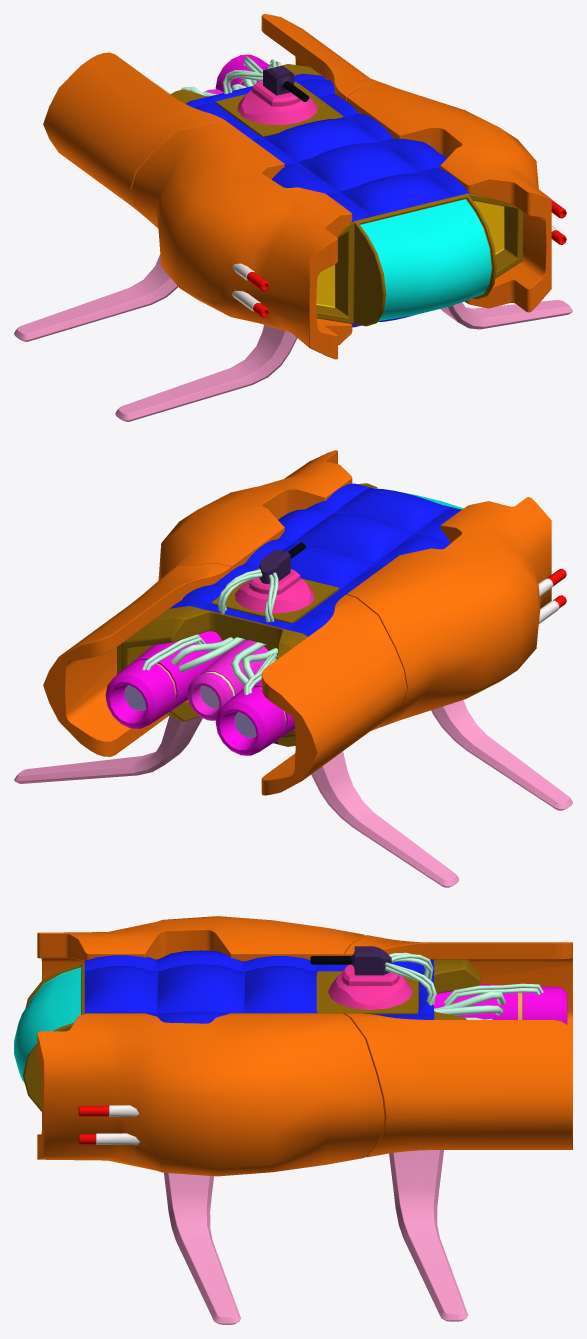
Rendered from buran.fbx.
The picture shows the model from 3 angles, top to bottom: view 1: azimuth 30°, elevation 25°; view 2: azimuth 150°, elevation 25°; view 3: azimuth 270°, elevation 25°; orthographic projection. The views are drawn at different scales.
Parts seen in each view (by area): view 1: Cube.033, Circle.013; view 2: Cube.033, Circle.013; view 3: Cube.033, Circle.013.
Boxes of the visible parts, left/top/right/bottom form: Cube.033: left=14, top=14, right=572, bottom=421; Circle.013: left=170, top=54, right=566, bottom=327; Cube.033: left=14, top=450, right=572, bottom=887; Circle.013: left=105, top=483, right=566, bottom=755; Cube.033: left=37, top=916, right=572, bottom=1324; Circle.013: left=14, top=950, right=567, bottom=1144.
Size of the model in its own units: 1395 by 732 by 1417.
